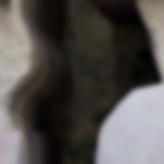broken_brick: (101, 83, 163, 163), (0, 126, 16, 163)
crack: (0, 0, 162, 163)
